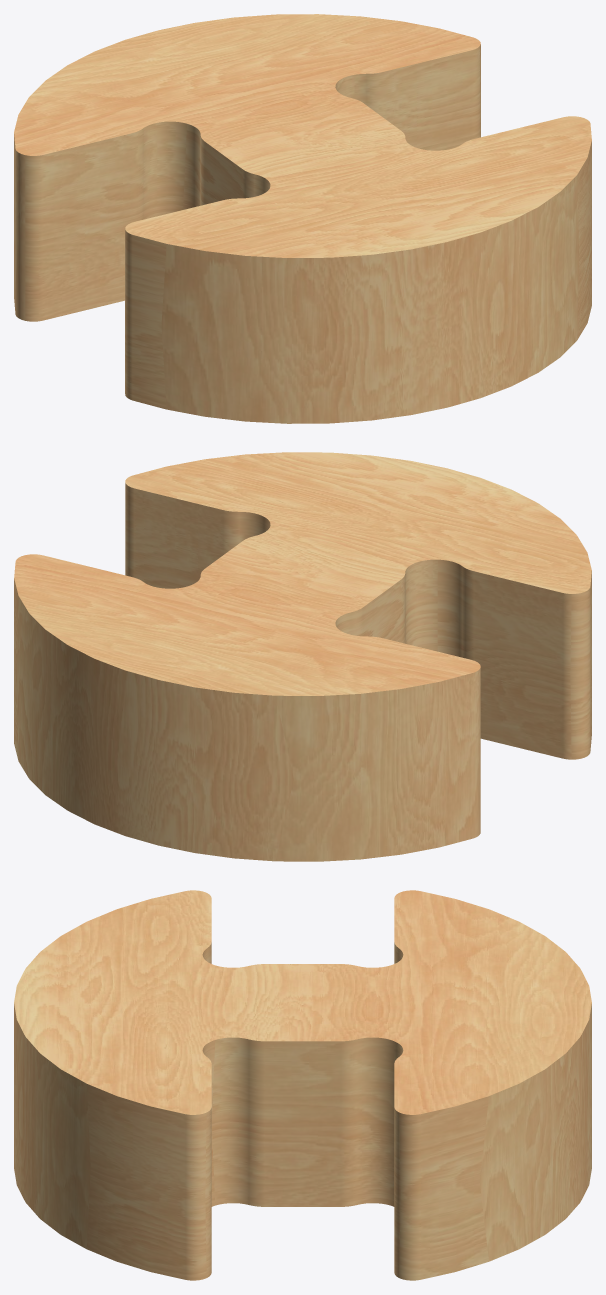
Rendered from sur_madeira_1.glb.
3 views of the same model, one above another, from view 1: azimuth 30°, elevation 25°; view 2: azimuth 150°, elevation 25°; view 3: azimuth 270°, elevation 25° (orthographic).
Parts seen in each view (by area): view 1: Sur; view 2: Sur; view 3: Sur.
Boxes of the visible parts, x1,y1,x2,y2 form: Sur: [14, 14, 591, 423]; Sur: [14, 452, 591, 861]; Sur: [14, 890, 591, 1280].
Bounding box in the file's own units: 0.0436 × 0.015 × 0.0474.
1 material, 1 textured.
